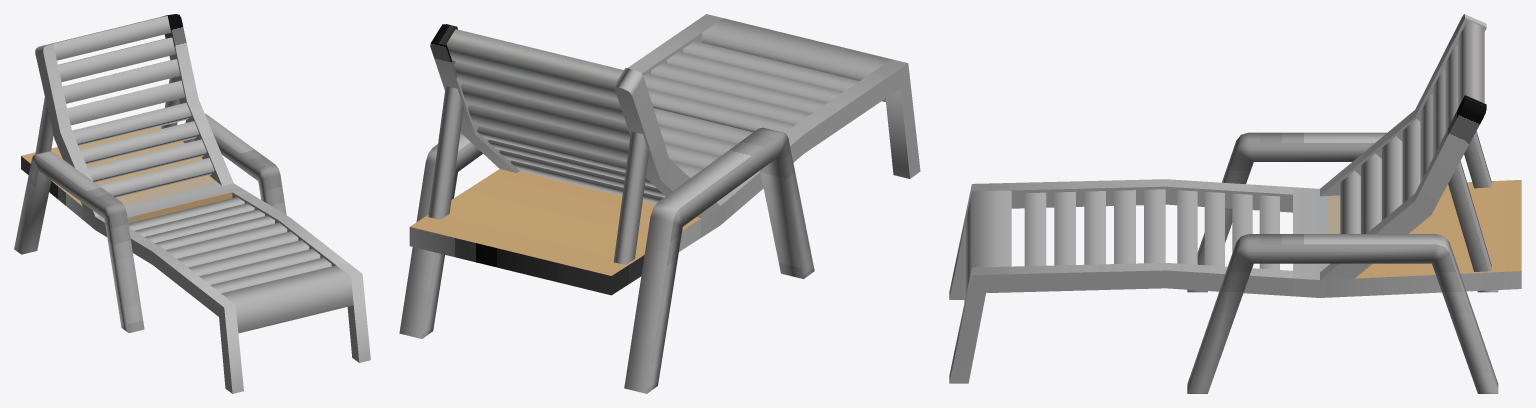
The model's file is objects_un_dlc2_beachbed01.gltf.
3 views of the same model, side by side, from view 1: azimuth 30°, elevation 25°; view 2: azimuth 150°, elevation 25°; view 3: azimuth 270°, elevation 25° (orthographic). The views are drawn at different scales.
Parts seen in each view (by area): view 1: objects_un_dlc2_beachbed01_mesh_shape:objects_un_dlc2_beachb; view 2: objects_un_dlc2_beachbed01_mesh_shape:objects_un_dlc2_beachb; view 3: objects_un_dlc2_beachbed01_mesh_shape:objects_un_dlc2_beachb.
Boxes of the visible parts, x1,y1,x2,y2 form: objects_un_dlc2_beachbed01_mesh_shape:objects_un_dlc2_beachb: (14,14,370,393); objects_un_dlc2_beachbed01_mesh_shape:objects_un_dlc2_beachb: (399,14,920,393); objects_un_dlc2_beachbed01_mesh_shape:objects_un_dlc2_beachb: (949,14,1521,393).
Size of what is drawn, in the model's own units: 0.7438 by 0.8713 by 1.61.
1 material, 1 textured.
